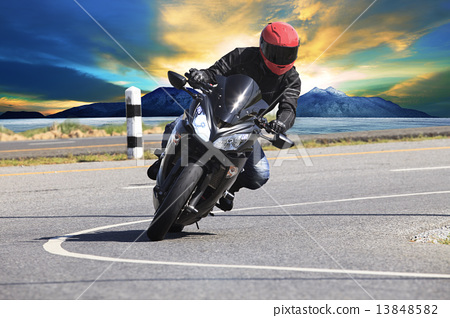helmet: (259, 16, 301, 75)
